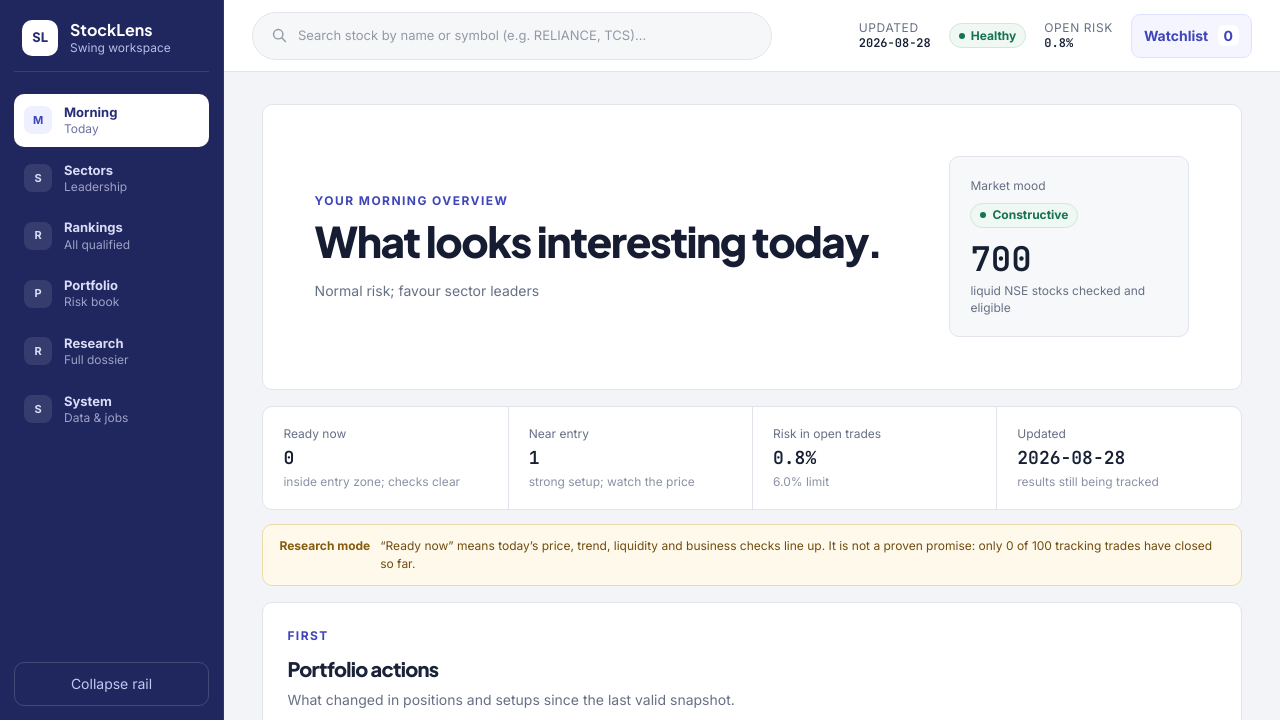
shows armed entries and active trades as distinct open paper tests
The image size is (1280, 720).
Check: the heading "What looks interesting today." is shown, box x1=315 y1=218 x2=882 y2=264
Click the button "P Portfolio Risk book". click: (112, 294)
box: x1=14 y1=267 x2=209 y2=320
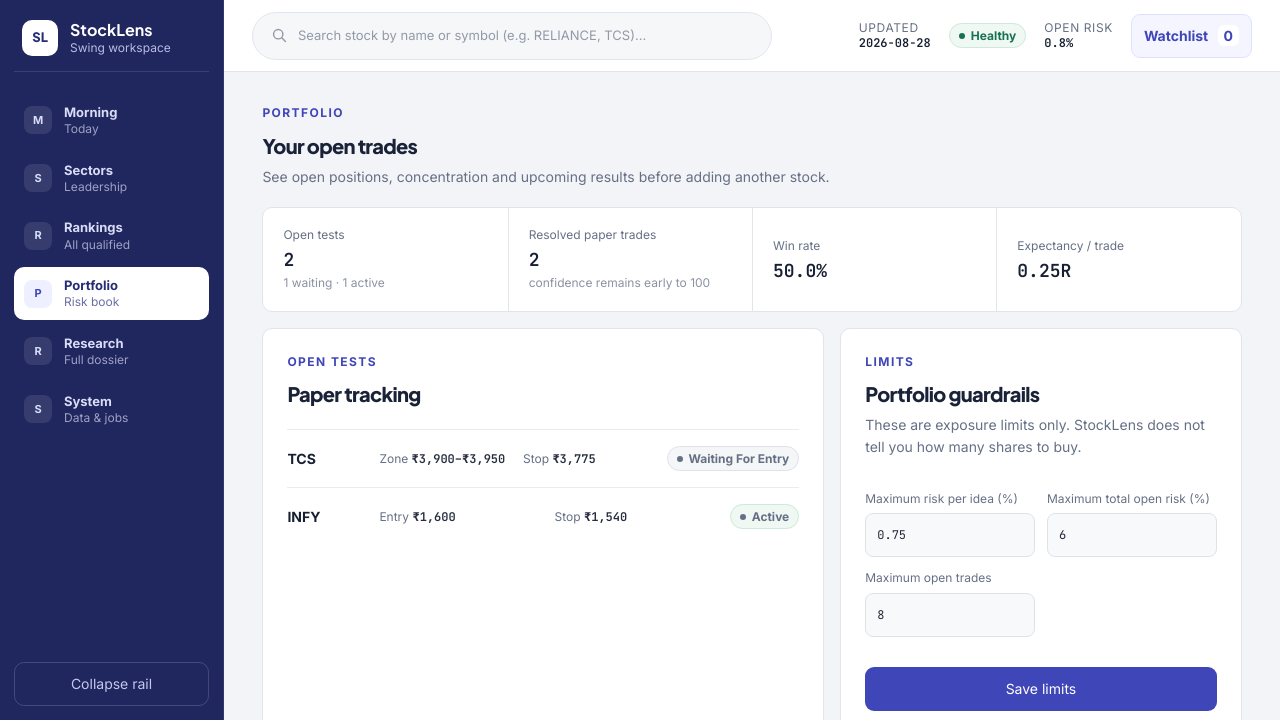
Check: the text "Waiting for entry" is shown, box x1=666 y1=446 x2=799 y2=472
Check: the text "Active" is shown, box x1=730 y1=504 x2=799 y2=530
Check: the text "1 waiting · 1 active" is shown, box x1=283 y1=275 x2=385 y2=290
